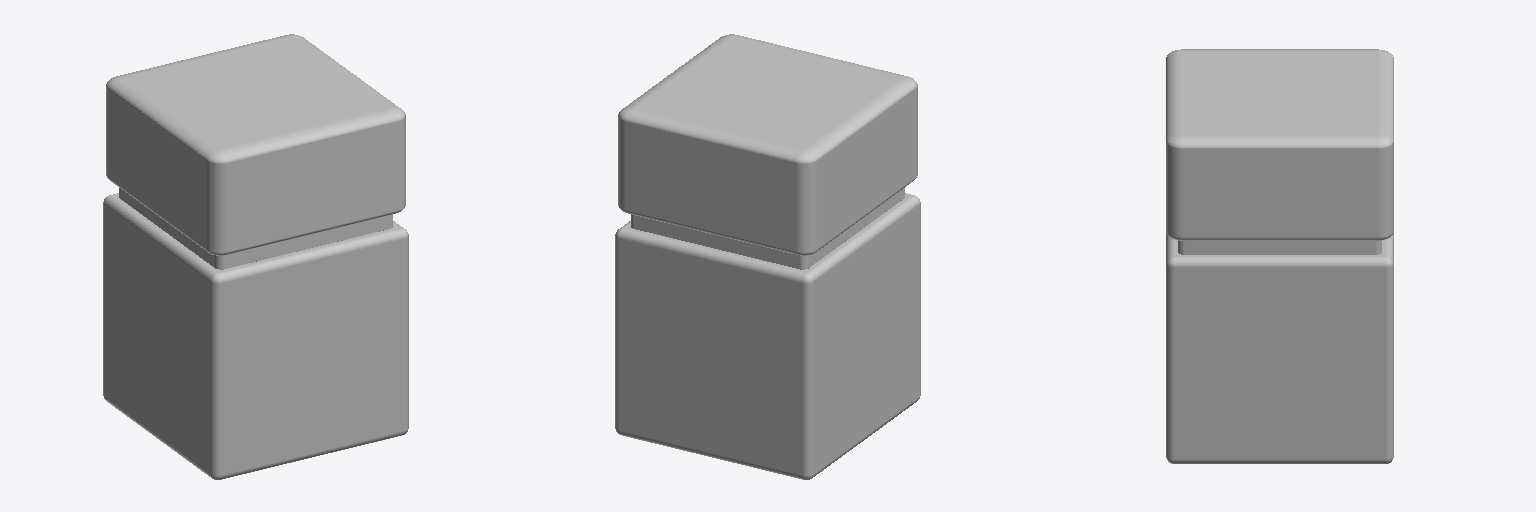
The model's file is shortLightFlatSquare.obj.
3 renders of one model, left to right at view 1: azimuth 30°, elevation 25°; view 2: azimuth 150°, elevation 25°; view 3: azimuth 270°, elevation 25°, orthographic.
Parts seen in each view (by area): view 1: Cube_Cube.002, Cube.002_Cube.001, Cube.001_Cube.003; view 2: Cube_Cube.002, Cube.002_Cube.001, Cube.001_Cube.003; view 3: Cube_Cube.002, Cube.002_Cube.001, Cube.001_Cube.003.
Part boxes in pixels (left/top/right/bottom): Cube_Cube.002: left=103, top=193, right=408, bottom=479; Cube.002_Cube.001: left=106, top=34, right=405, bottom=255; Cube.001_Cube.003: left=119, top=188, right=392, bottom=269; Cube_Cube.002: left=615, top=193, right=920, bottom=479; Cube.002_Cube.001: left=618, top=34, right=917, bottom=255; Cube.001_Cube.003: left=631, top=188, right=904, bottom=269; Cube_Cube.002: left=1166, top=233, right=1393, bottom=463; Cube.002_Cube.001: left=1166, top=49, right=1393, bottom=240; Cube.001_Cube.003: left=1178, top=240, right=1381, bottom=254.
Size of the model in its own units: 2 by 3.15 by 2.